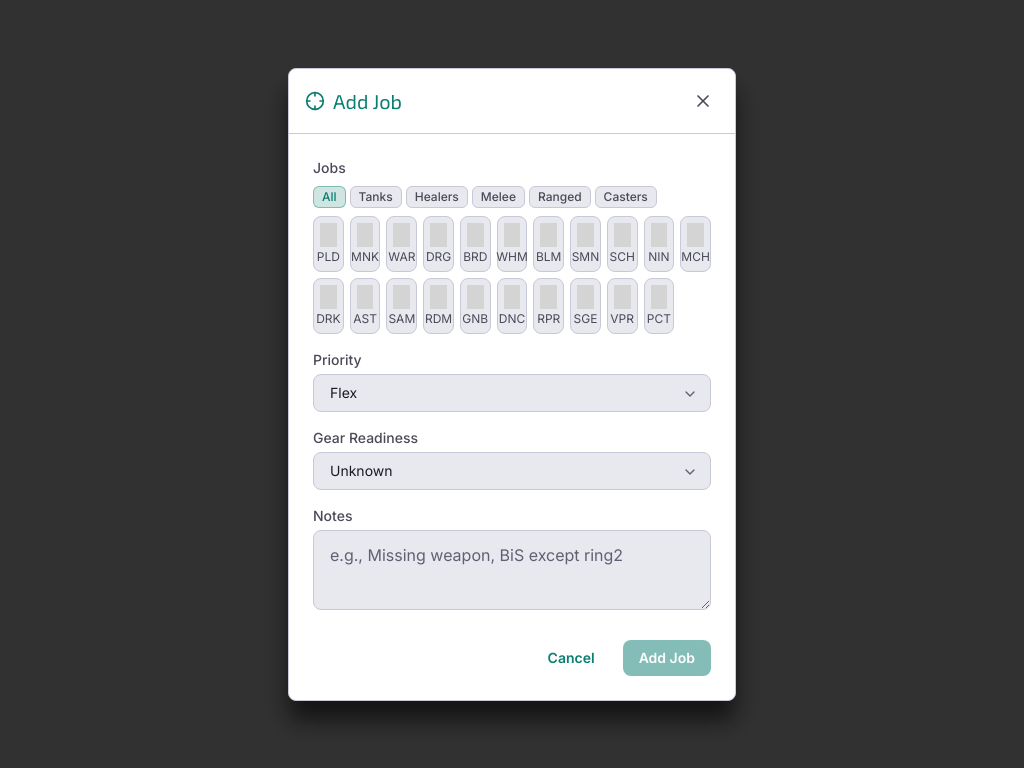
Test: JobProfileModal (Add mode) › clicking a selected job deselects it
The width and height of the screenshot is (1024, 768).
Click the button with test id "job-chip-BRD": (475, 244) [460,216,491,272]
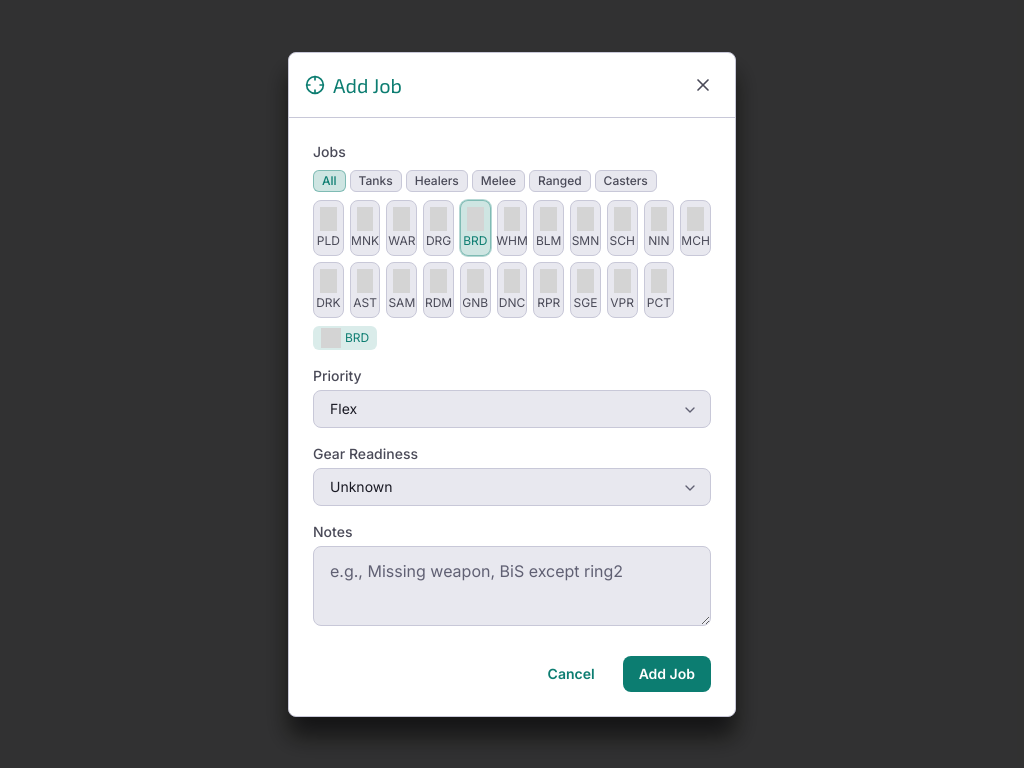
Click the button with test id "job-chip-MCH": (696, 228) [680,200,711,256]
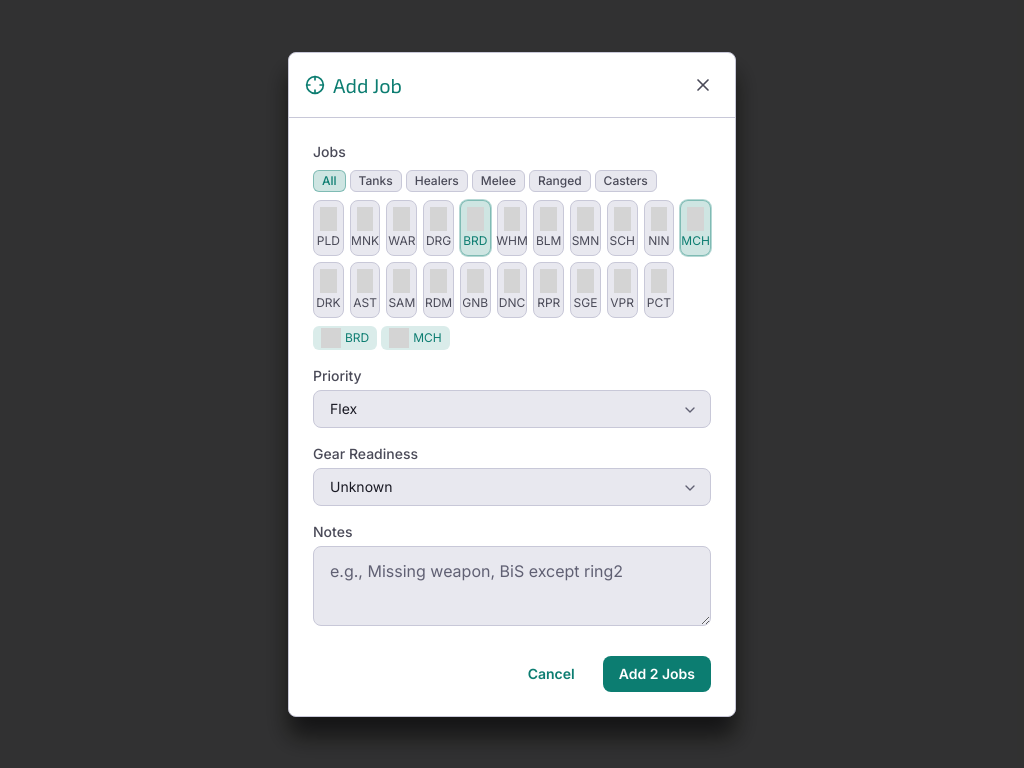
Click the button with test id "job-chip-BRD": (475, 228) [460,200,491,256]
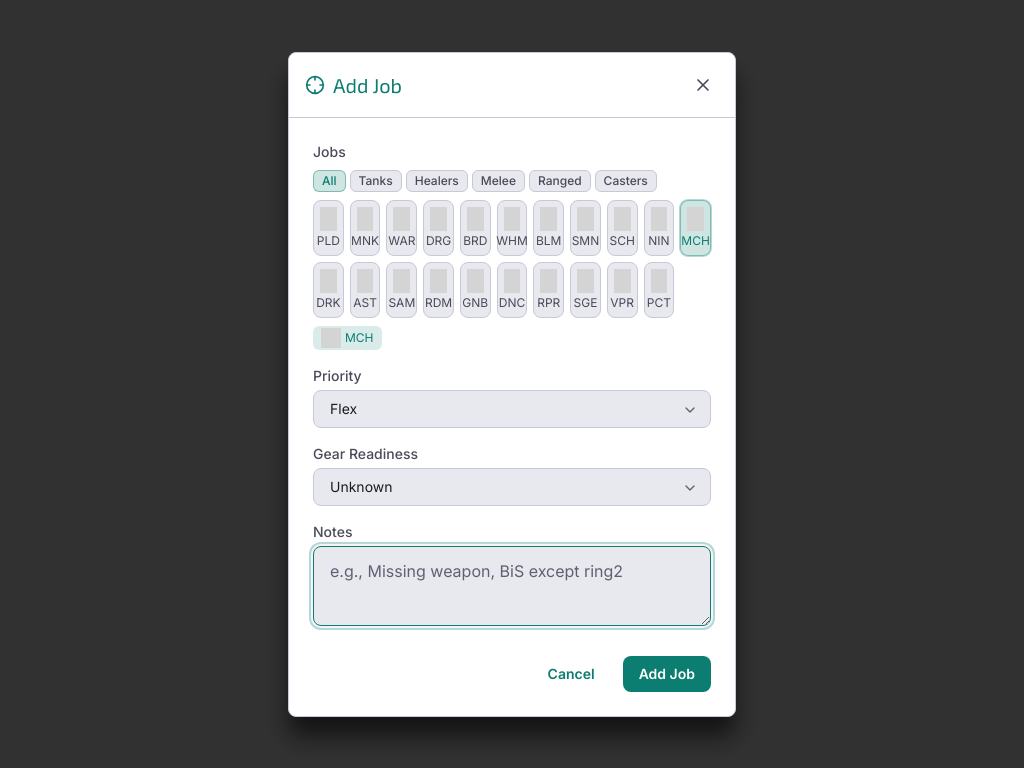
expect the button with test id "submit-add-job" reads "Add Job": met, box [623,656,711,692]
